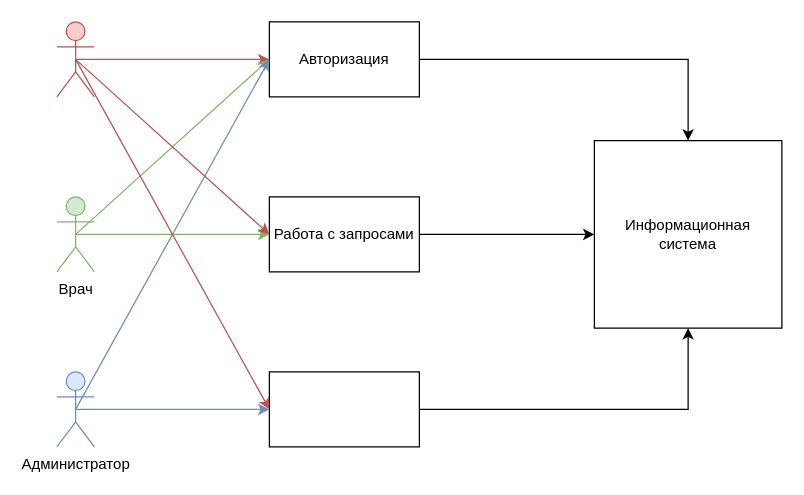
The diagram is 804 pixels wide and 495 high, and some of its shapes have lost their labels. The box of each missing label's shape, as (x1, y1, x2, y2) in pixels:
Бизнес-процесс: (268, 371, 419, 447)
Главный врач: (56, 21, 94, 97)
